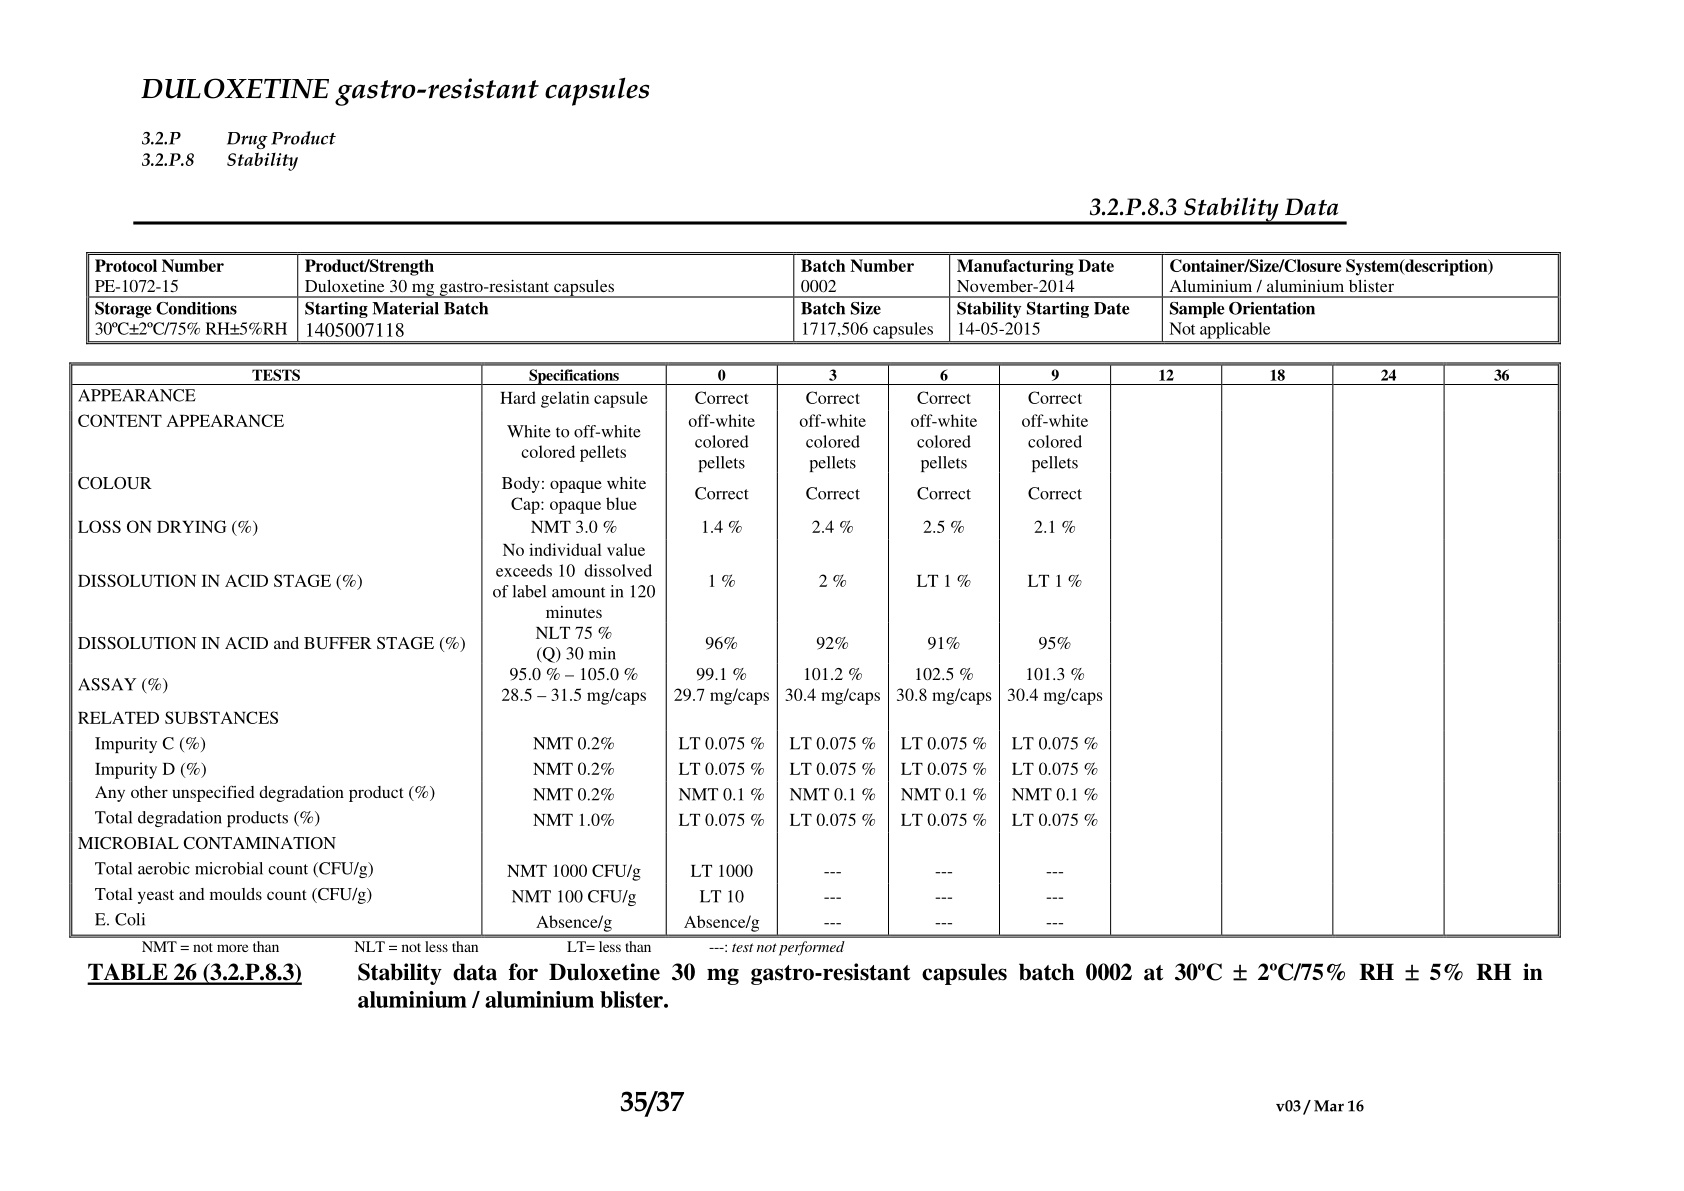full_lined: (85, 251, 1562, 344)
partial_lined: (70, 361, 1562, 938)
